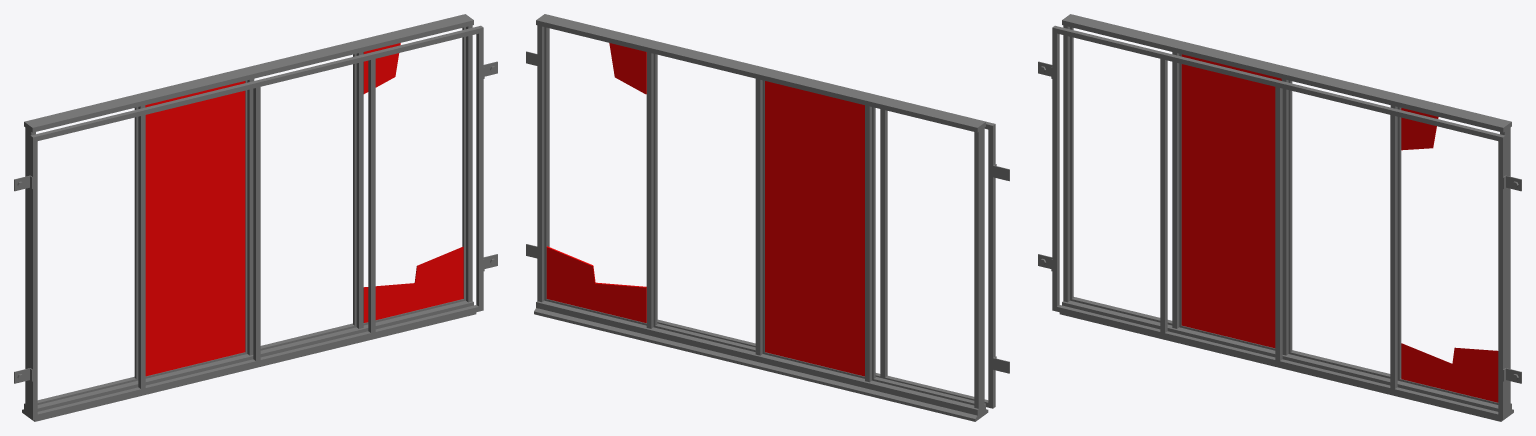
The model's file is Window04_Broken02.fbx.
3 renders of one model, left to right at view 1: azimuth 30°, elevation 25°; view 2: azimuth 150°, elevation 25°; view 3: azimuth 330°, elevation 25°, orthographic.
Visible parts, largest first — view 1: Window04_Broken02; view 2: Window04_Broken02; view 3: Window04_Broken02.
Boxes of the visible parts, x1,y1,x2,y2 form: Window04_Broken02: [14, 14, 497, 421]; Window04_Broken02: [526, 14, 1009, 421]; Window04_Broken02: [1038, 14, 1521, 421].
Bounding box in the file's own units: 263 × 152 × 14.75.
